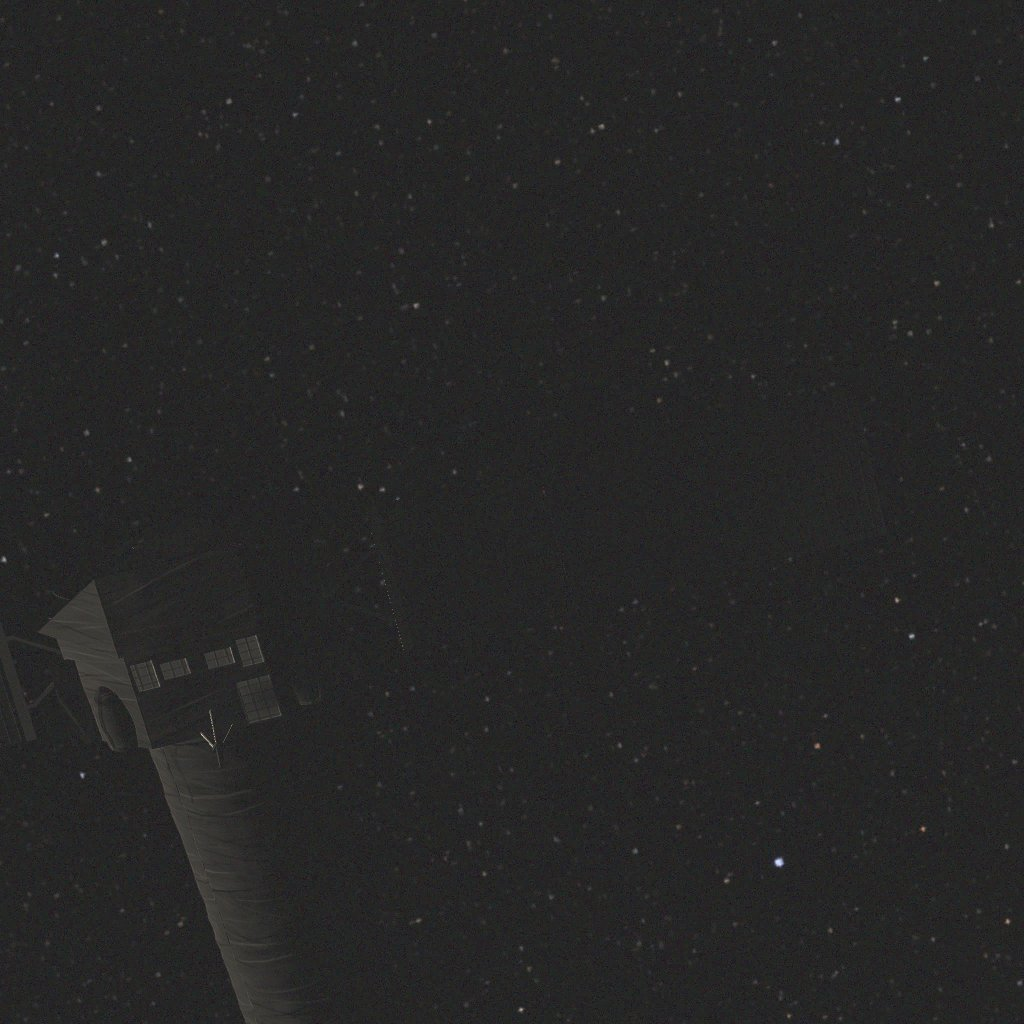xmm_newton: (0, 389, 887, 1024)
